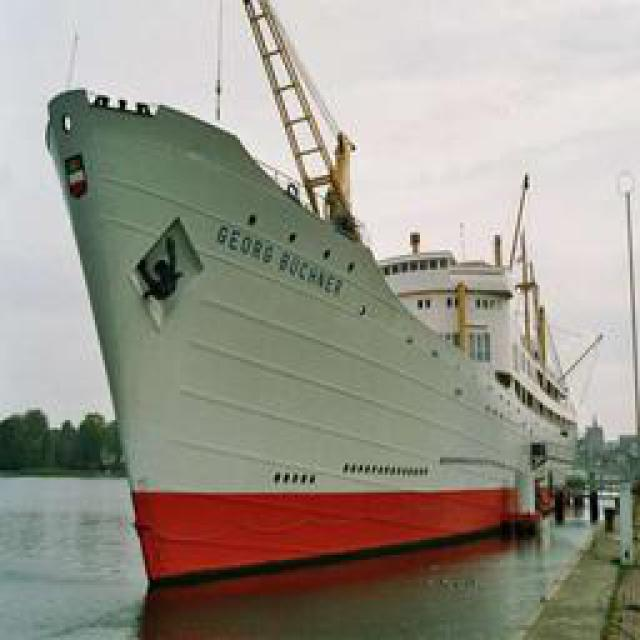Ship: (41, 74, 586, 607)
